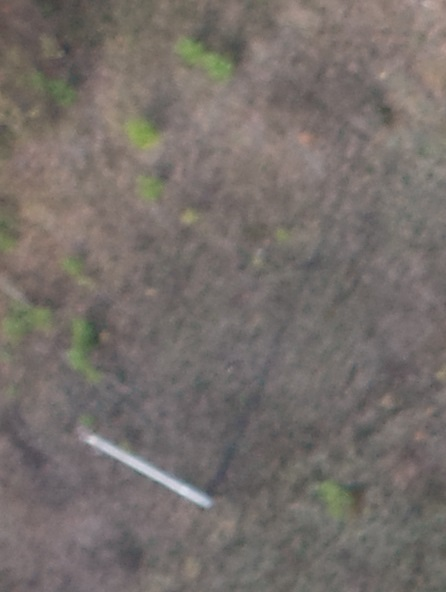opora: (73, 423, 250, 510)
